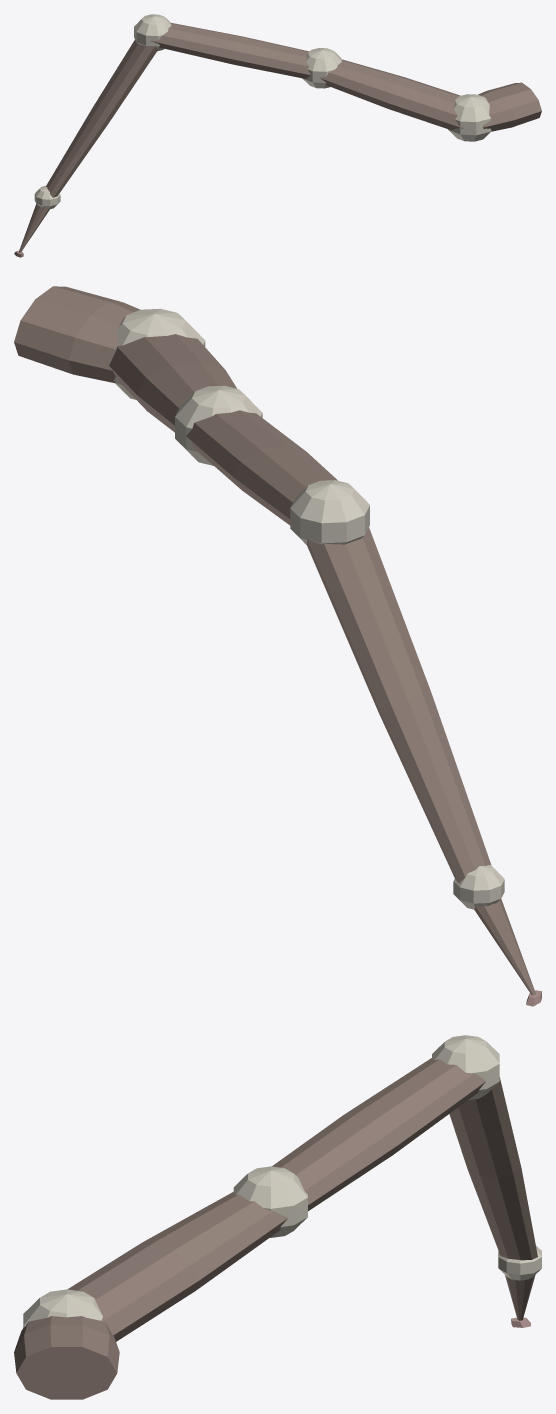
File: crab_leg_l1_original_01.glb
3 views of the same model, one above another, from view 1: azimuth 30°, elevation 25°; view 2: azimuth 150°, elevation 25°; view 3: azimuth 270°, elevation 25° (orthographic). The views are drawn at different scales.
Parts seen in each view (by area): view 1: L1Segment1, L1Segment2, L1Segment3, L1Segment0, L1Articulation1, L1Articulation2, L1Articulation3, L1Segment4, L1Articulation4; view 2: L1Segment3, L1Segment2, L1Segment0, L1Segment1, L1Articulation3, L1Articulation2, L1Articulation1, L1Segment4, L1Articulation4; view 3: L1Segment1, L1Segment2, L1Segment3, L1Segment0, L1Articulation2, L1Articulation3, L1Articulation1, L1Articulation4, L1Segment4.
Boxes of the visible parts, <box> form: L1Segment1: <box>320,59,463,130</box>; L1Segment2: <box>151,23,310,78</box>; L1Segment3: <box>46,40,158,197</box>; L1Segment0: <box>478,82,541,131</box>; L1Articulation1: <box>448,94,491,141</box>; L1Articulation2: <box>302,48,341,88</box>; L1Articulation3: <box>134,14,171,51</box>; L1Segment4: <box>19,204,49,252</box>; L1Articulation4: <box>34,185,60,208</box>; L1Segment3: <box>306,527,491,882</box>; L1Segment2: <box>186,410,337,525</box>; L1Segment0: <box>14,286,140,383</box>; L1Segment1: <box>109,334,236,432</box>; L1Articulation3: <box>290,480,369,544</box>; L1Articulation2: <box>175,385,262,465</box>; L1Articulation1: <box>113,308,205,399</box>; L1Segment4: <box>474,899,535,995</box>; L1Articulation4: <box>453,865,504,909</box>; L1Segment1: <box>67,1192,287,1341</box>; L1Segment2: <box>272,1058,491,1211</box>; L1Segment3: <box>449,1077,537,1260</box>; L1Segment0: <box>14,1316,119,1399</box>; L1Articulation2: <box>233,1166,307,1237</box>; L1Articulation3: <box>432,1035,499,1100</box>; L1Articulation1: <box>23,1289,102,1329</box>; L1Articulation4: <box>498,1245,541,1280</box>; L1Segment4: <box>505,1275,535,1320</box>.
Size of the model in its own units: 0.5466 by 0.3023 by 0.3727.
